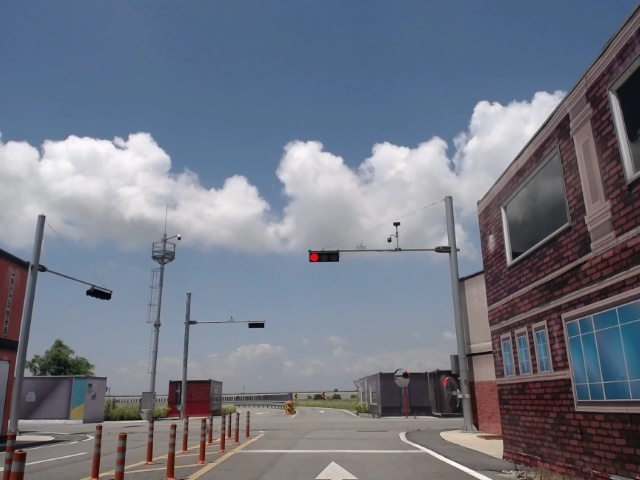red_3: (310, 251, 339, 262)
